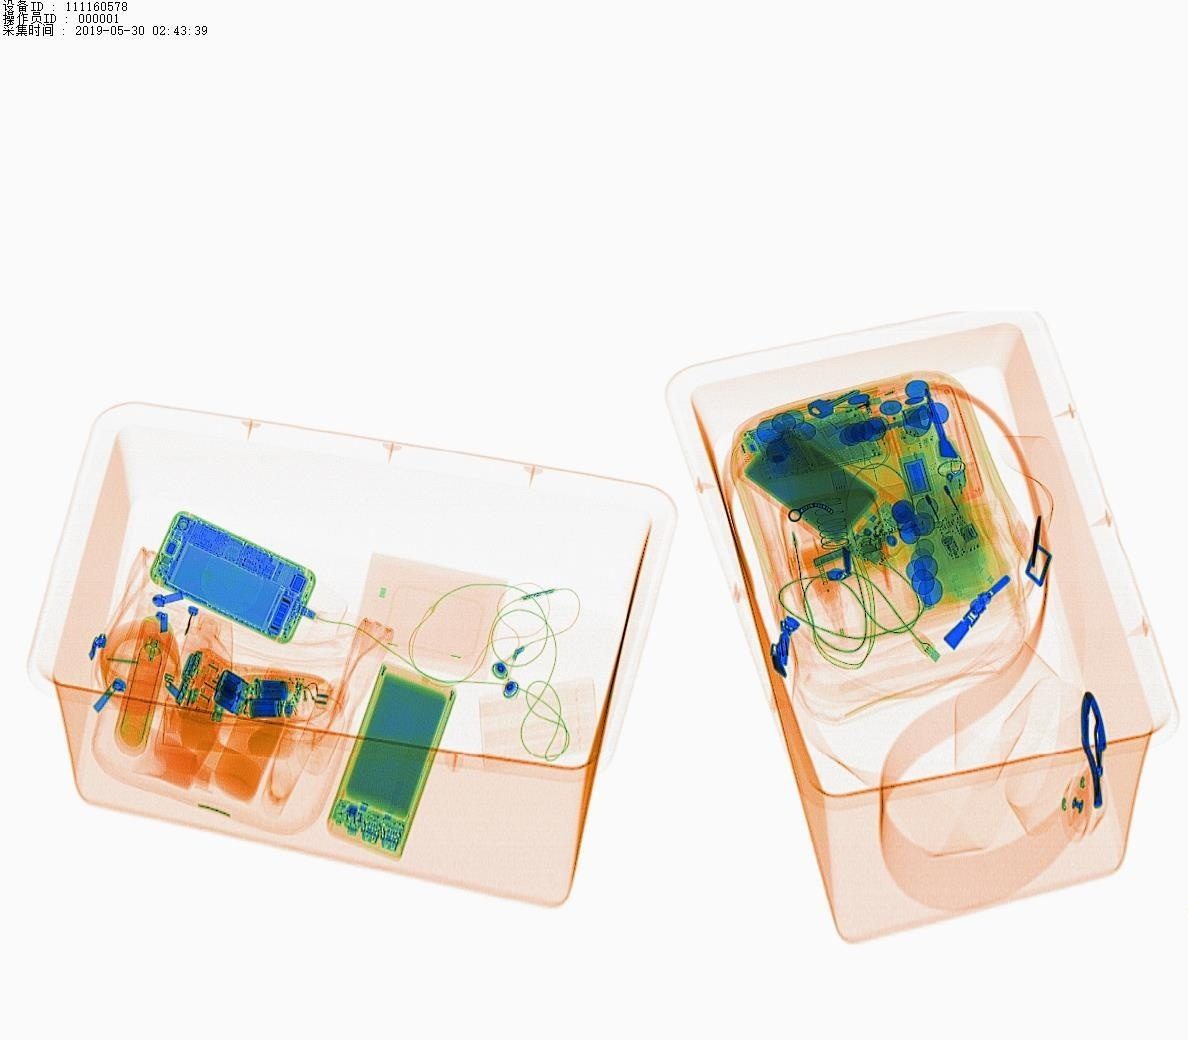NonmetallicFire: (930, 461, 989, 572), (837, 376, 925, 436)
